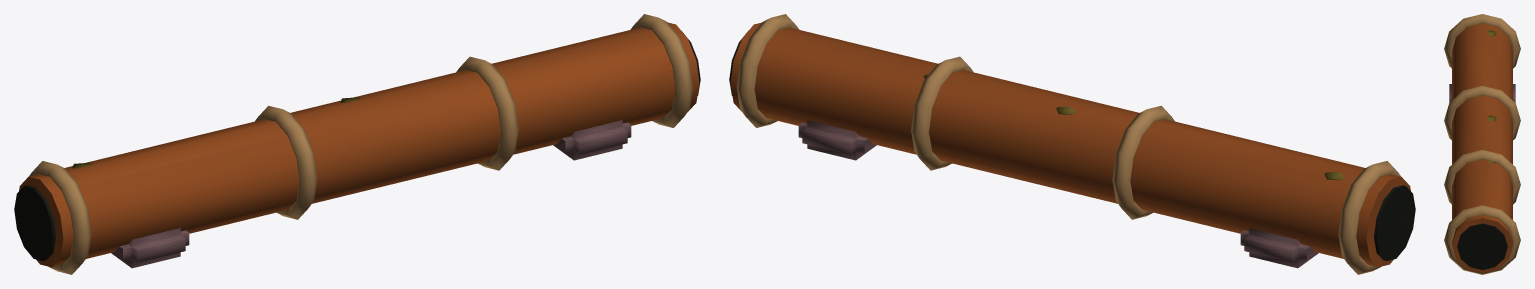
File: PilotPipe_3.fbx
3 views of the same model, side by side, from view 1: azimuth 30°, elevation 25°; view 2: azimuth 150°, elevation 25°; view 3: azimuth 270°, elevation 25° (orthographic). The views are drawn at different scales.
Parts seen in each view (by area): view 1: PilotPipe_3__Geometry; view 2: PilotPipe_3__Geometry; view 3: PilotPipe_3__Geometry.
Boxes of the visible parts, x1,y1,x2,y2 form: PilotPipe_3__Geometry: (14, 14, 700, 274); PilotPipe_3__Geometry: (729, 14, 1415, 274); PilotPipe_3__Geometry: (1444, 14, 1520, 274).
Bounding box in the file's own units: 2.64 × 0.416 × 0.416.
